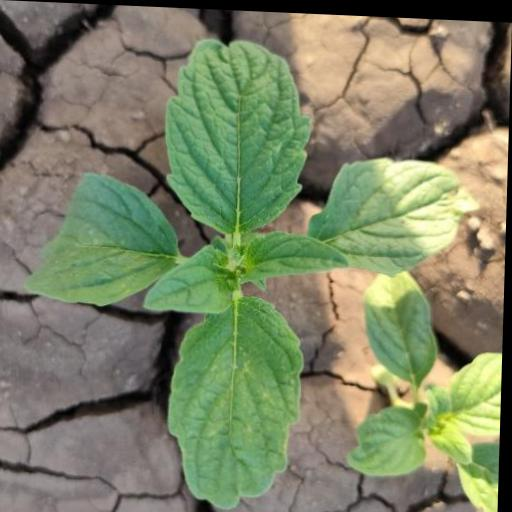crop: (15, 30, 470, 512), (329, 254, 506, 512)
